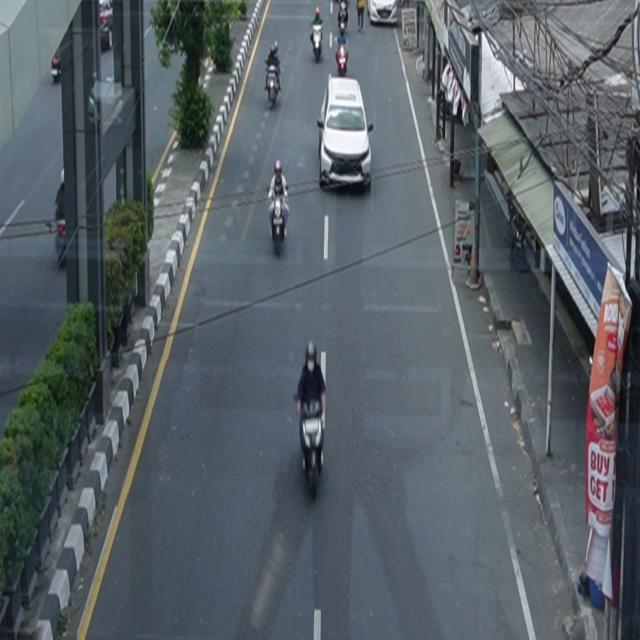car: (318, 74, 375, 193), (367, 1, 398, 26)
